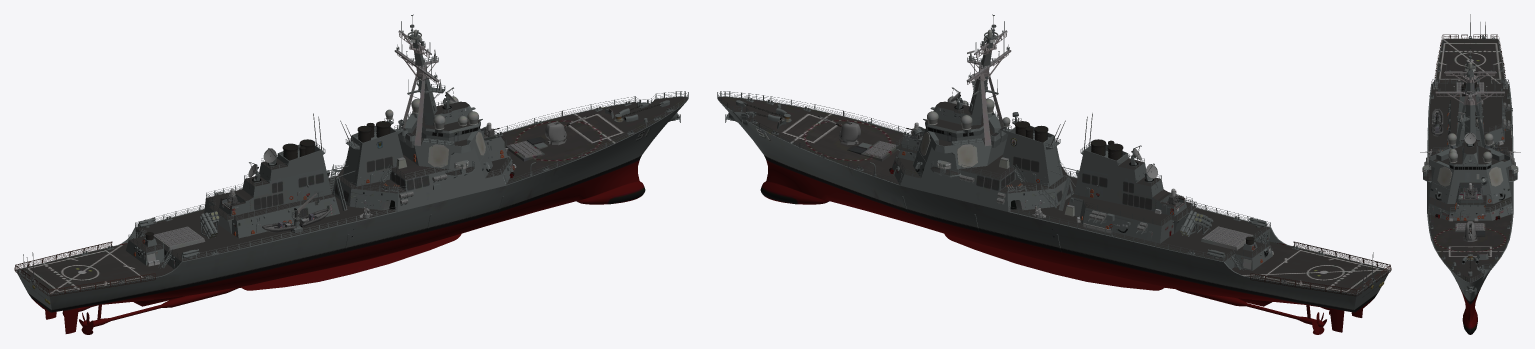
The model's file is us-burke.glb.
The picture shows the model from 3 angles, left to right: view 1: azimuth 30°, elevation 25°; view 2: azimuth 150°, elevation 25°; view 3: azimuth 270°, elevation 25°; orthographic projection. The views are drawn at different scales.
Visible parts, largest first — view 1: root; view 2: root; view 3: root.
Part boxes in pixels (x1,y1,x2,y2): root: (14, 14, 688, 334); root: (717, 14, 1391, 334); root: (1420, 14, 1520, 334).
Bounding box in the file's own units: 155 × 53.87 × 24.94.
5 materials, 5 textured.
